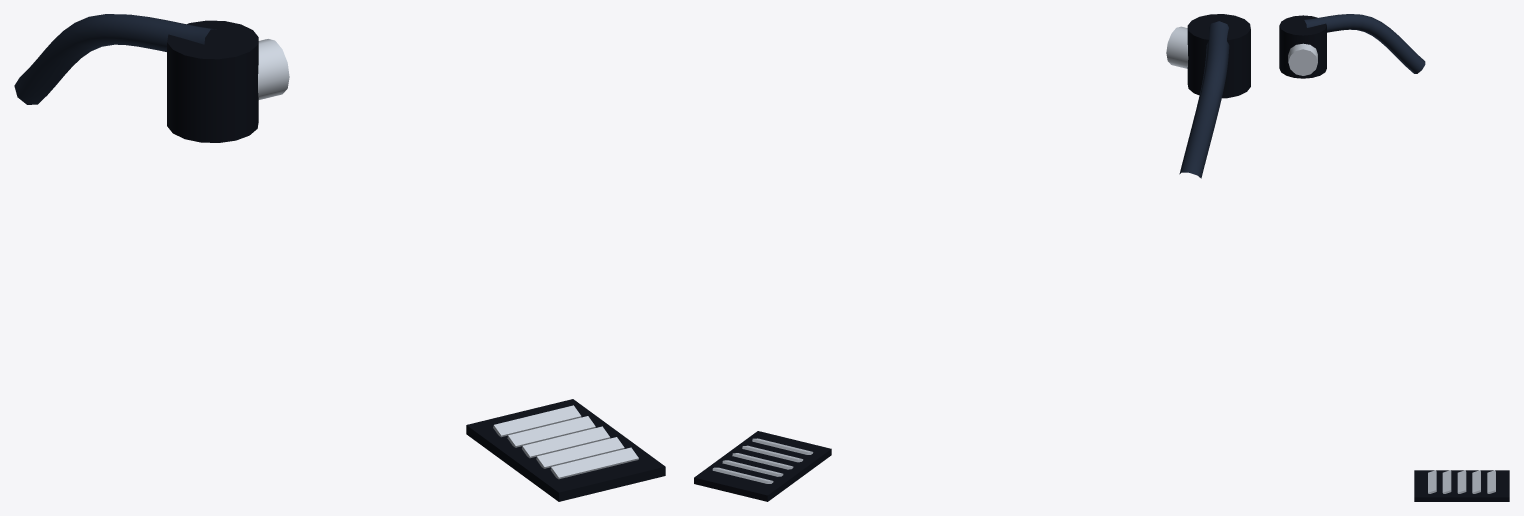
The model's file is helmet_blower_ducting.glb.
3 renders of one model, left to right at view 1: azimuth 30°, elevation 25°; view 2: azimuth 150°, elevation 25°; view 3: azimuth 270°, elevation 25°, orthographic. The views are drawn at different scales.
Parts seen in each view (by area): view 1: Helmet_Blower_Ventilation_Assembly; view 2: Helmet_Blower_Ventilation_Assembly; view 3: Helmet_Blower_Ventilation_Assembly.
Boxes of the visible parts, x1,y1,x2,y2 form: Helmet_Blower_Ventilation_Assembly: [14, 14, 665, 501]; Helmet_Blower_Ventilation_Assembly: [694, 14, 1250, 501]; Helmet_Blower_Ventilation_Assembly: [1279, 14, 1509, 501].
Size of the model in its own units: 0.7253 by 0.7108 by 0.435.
